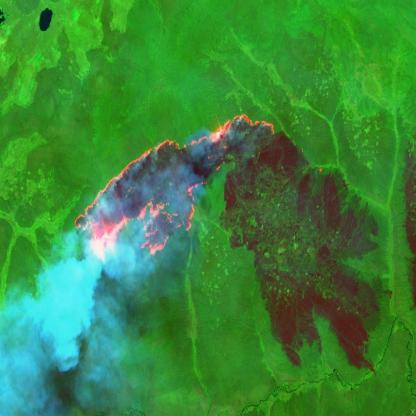fire: (72, 116, 276, 272)
